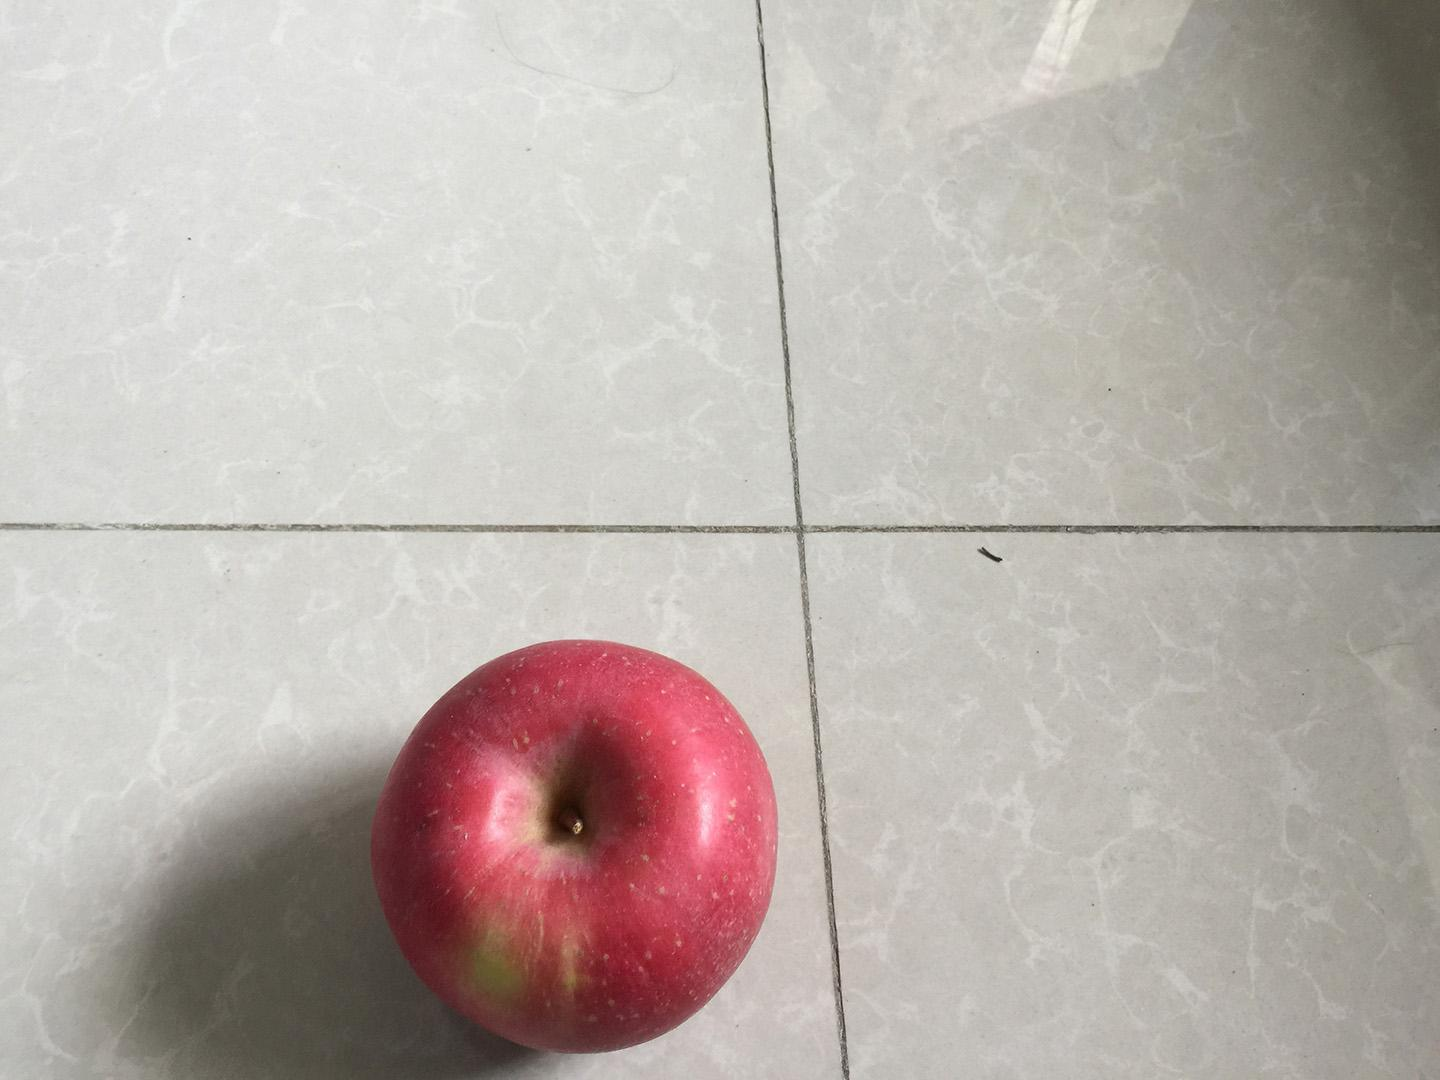apple: (363, 632, 786, 1063)
